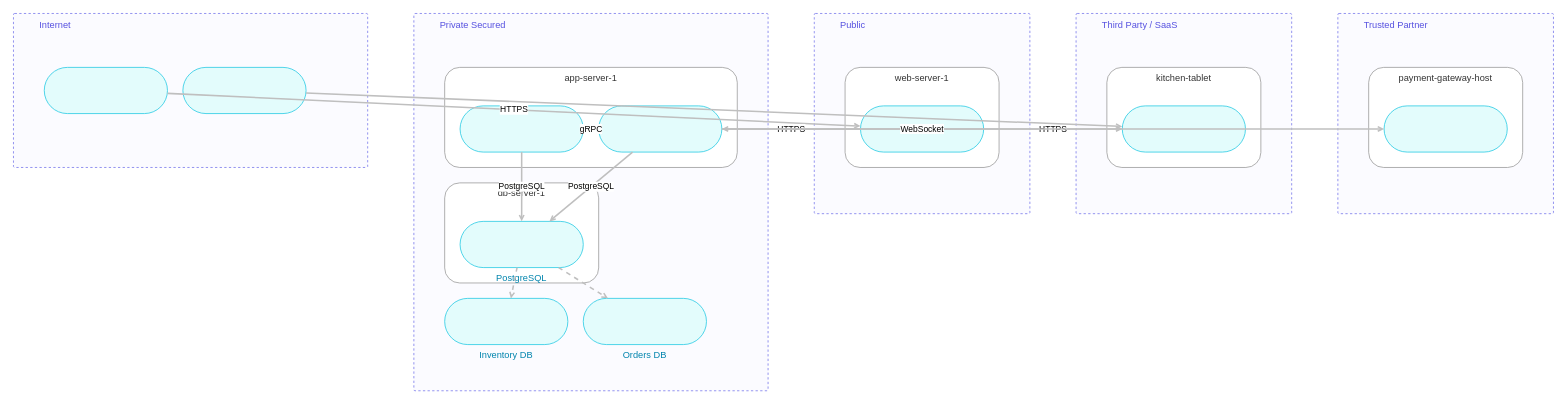
Some shapes in this 1567 by 404 pixel diagram are drawn without their labels. The centre of each missing label's shape, as x and y in pixels:
"Customer" belongs at point 105,90.
"Inventory Service" belongs at point 521,128.
"Kitchen Display" belongs at point 1183,128.
"Kitchen Staff" belongs at point 244,90.
"Order API" belongs at point 660,128.
"Storefront" belongs at point 922,128.
"Stripe Gateway" belongs at point 1445,128.
